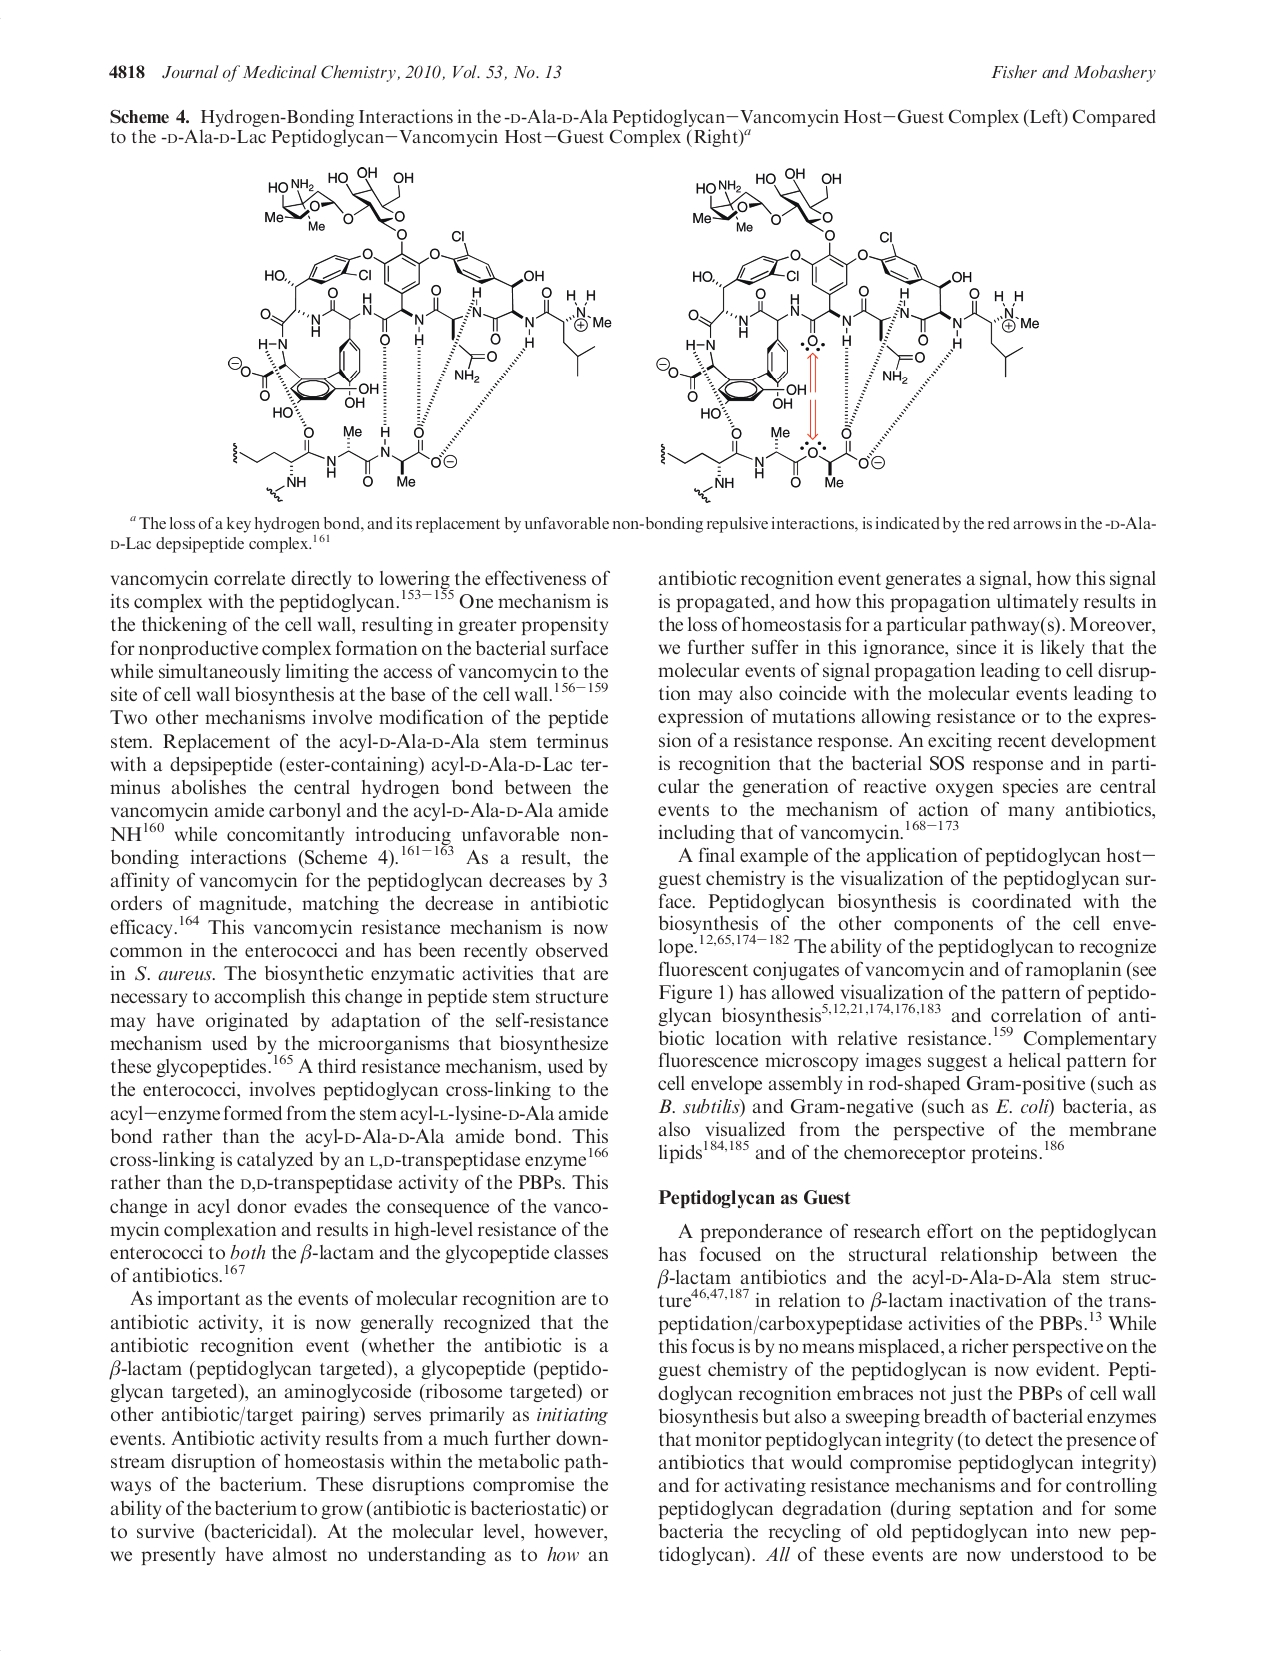exist_molecular: (656, 153, 1049, 517), (218, 157, 613, 508)
